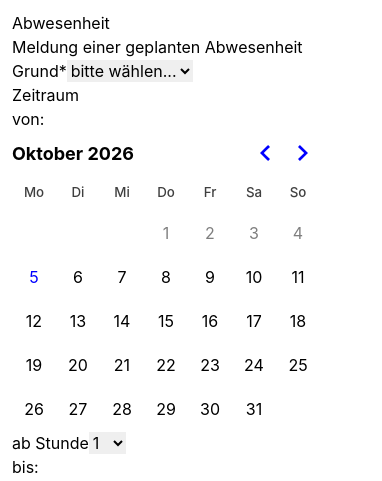
StepOne - Absence Wizard Step 1 › Conditional Fields - Personal Reason › shows personal reason field when reason is personal
The image size is (382, 481).
Check: the field labelled "Begründung" is not shown
Select "Privat" in the dropdown labelled "Grund*" at (130, 71), box top-left (67, 60), bottom-right (193, 82)
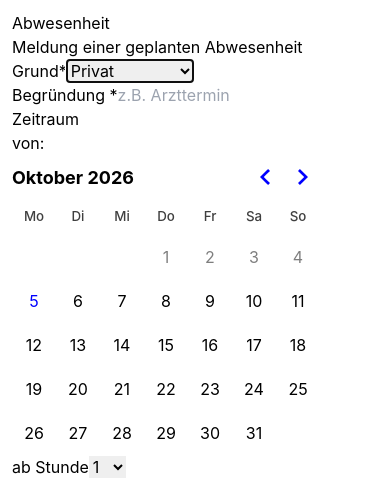
Check: the field labelled "Begründung *" is shown, box top-left (118, 83), bottom-right (366, 107)
